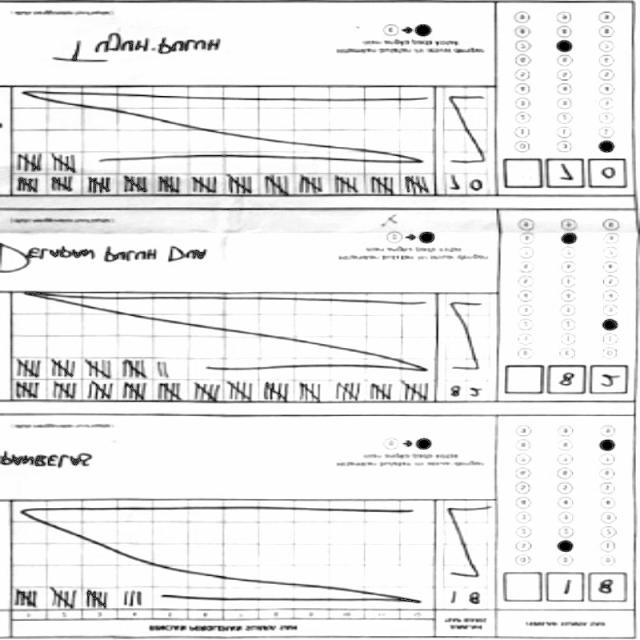Suara: (499, 569, 630, 612), (500, 156, 630, 197), (497, 362, 630, 402)
